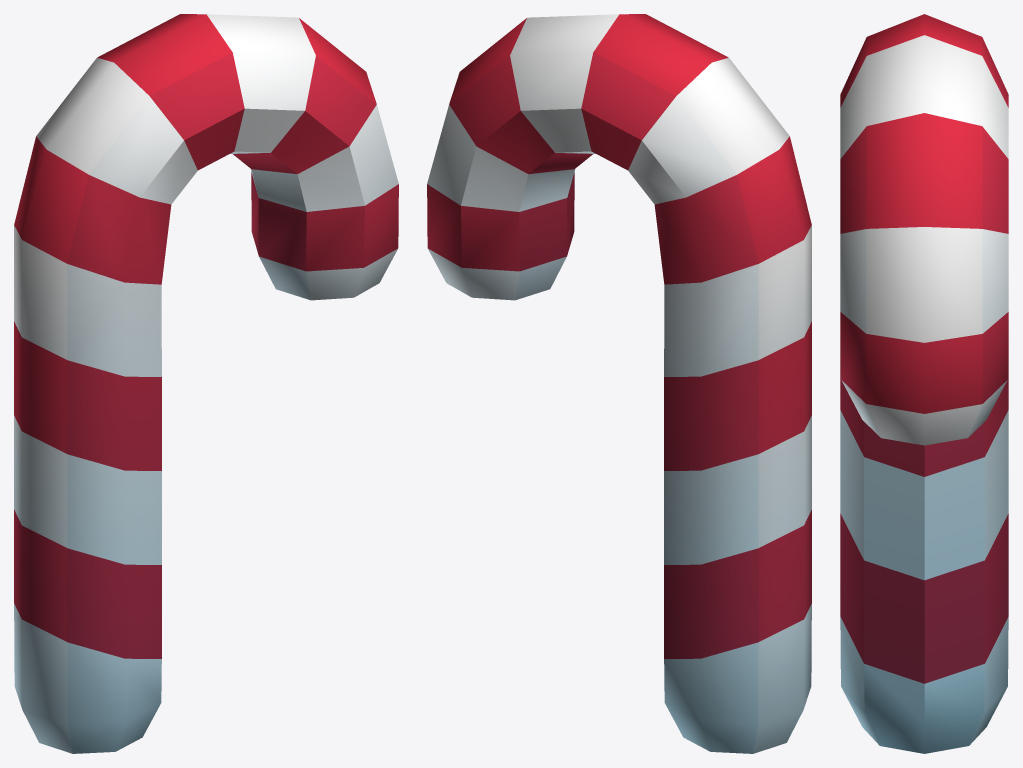
File: candycane_small.glb
The picture shows the model from 3 angles, left to right: view 1: azimuth 30°, elevation 25°; view 2: azimuth 150°, elevation 25°; view 3: azimuth 270°, elevation 25°; orthographic projection. The views are drawn at different scales.
Parts seen in each view (by area): view 1: candycane_small; view 2: candycane_small; view 3: candycane_small.
Part boxes in pixels (box(x1,y1,x2,y2)): candycane_small: box(14, 14, 398, 753); candycane_small: box(427, 14, 811, 753); candycane_small: box(840, 14, 1008, 753).
Size of the model in its own units: 0.3199 by 0.5843 by 0.1149.
1 material, 1 textured.
